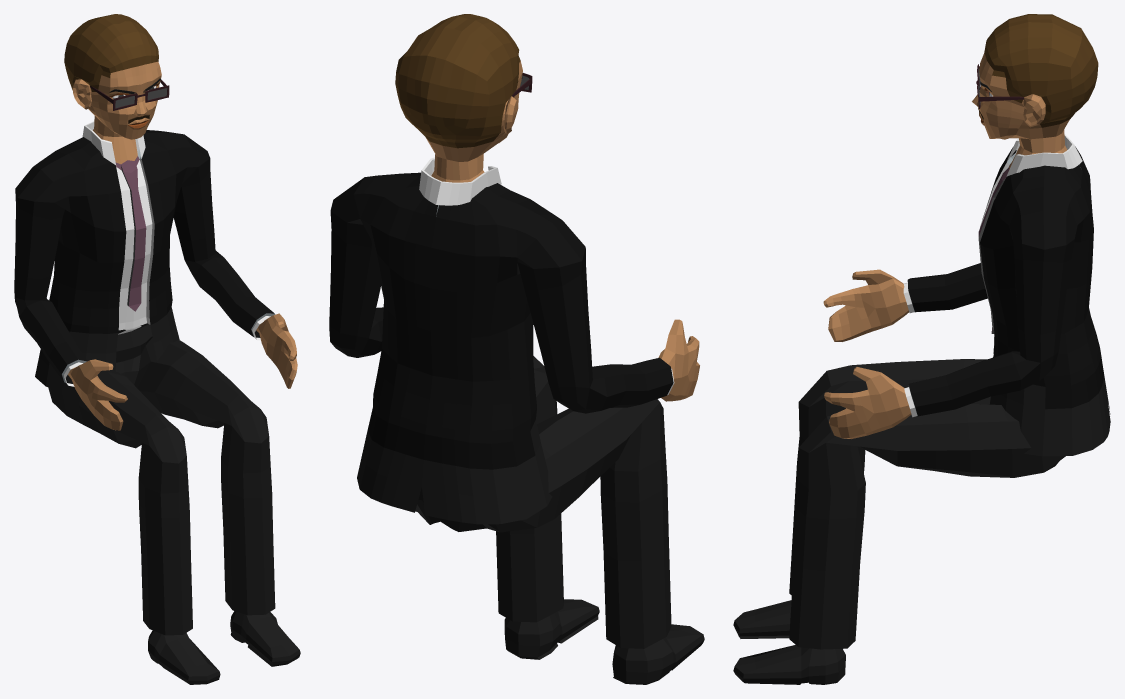
File: TeacherMale_B_Sit.fbx
The picture shows the model from 3 angles, left to right: view 1: azimuth 30°, elevation 25°; view 2: azimuth 150°, elevation 25°; view 3: azimuth 270°, elevation 25°; orthographic projection. The views are drawn at different scales.
Visible parts, largest first — view 1: TeacherMale_B_Sit; view 2: TeacherMale_B_Sit; view 3: TeacherMale_B_Sit.
Part boxes in pixels (bbox=[...]): TeacherMale_B_Sit: bbox=[14, 14, 300, 684]; TeacherMale_B_Sit: bbox=[329, 14, 704, 684]; TeacherMale_B_Sit: bbox=[733, 14, 1110, 684].
Bounding box in the file's own units: 0.2953 × 0.7301 × 0.3929.
